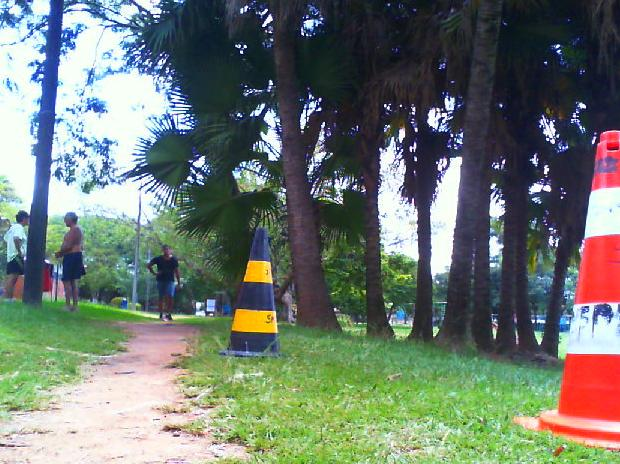0 cone: (513, 130, 620, 452), (219, 230, 292, 358)
